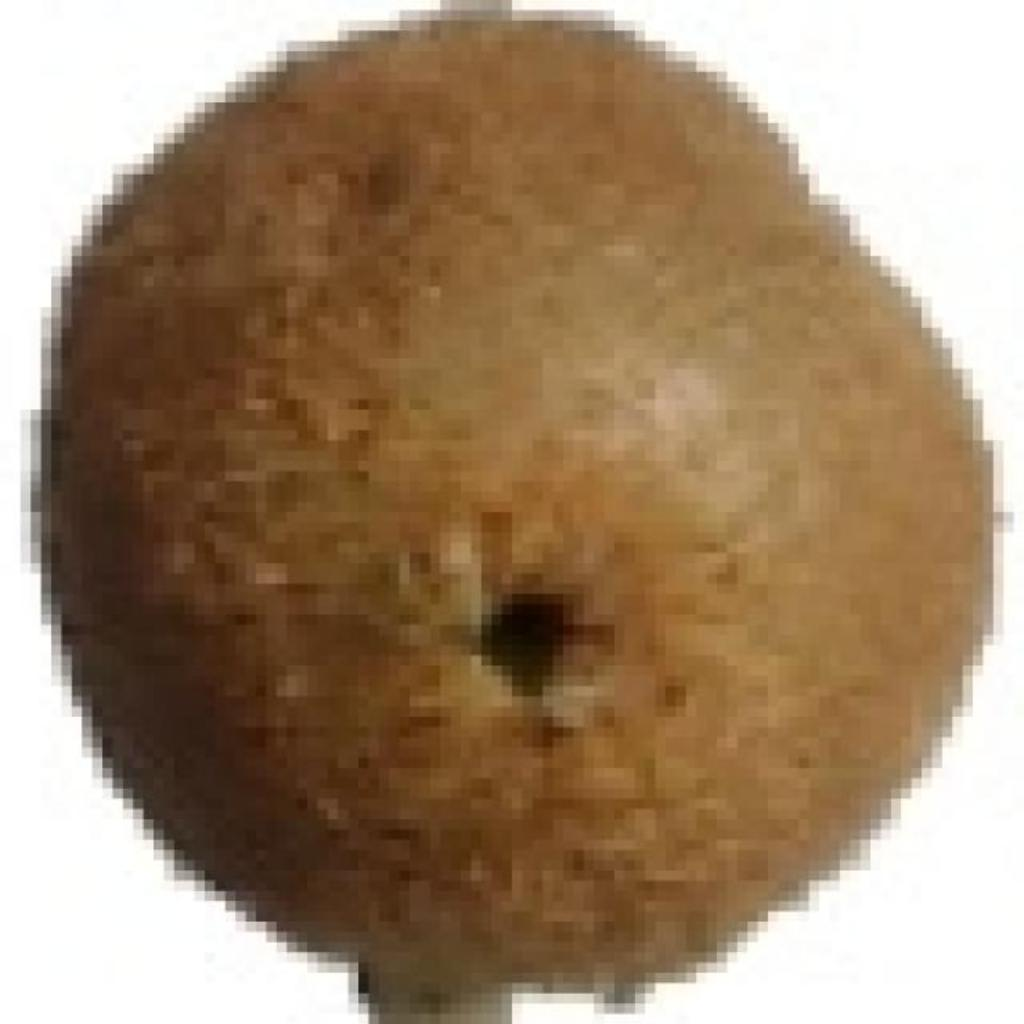kiwi: (61, 0, 1004, 1004)
